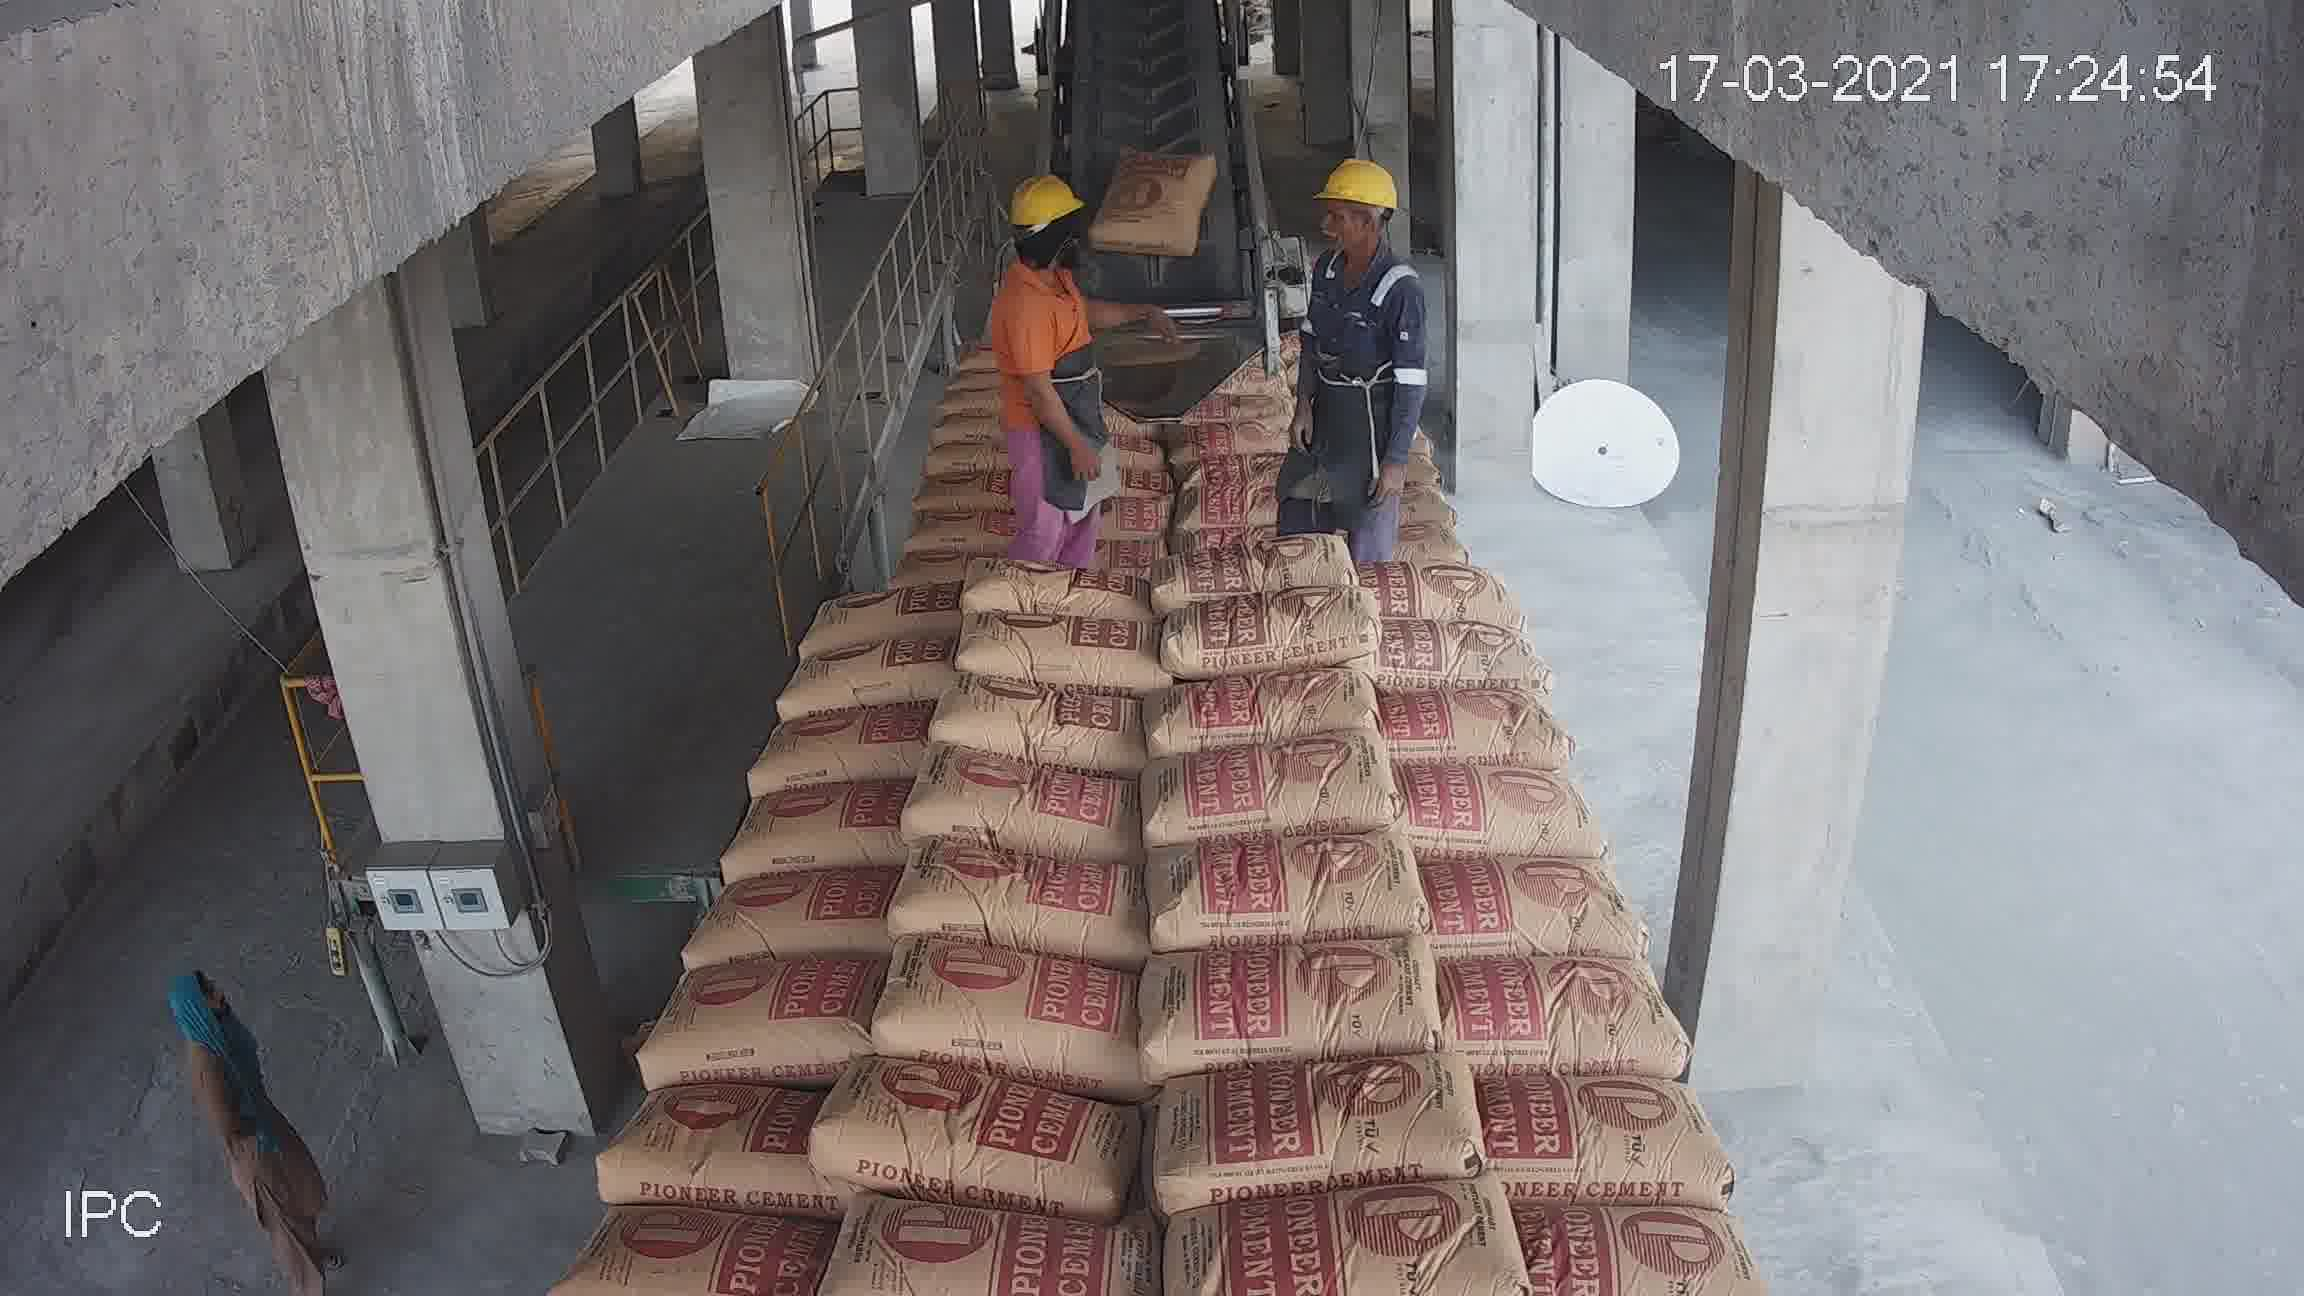bag: (1114, 237, 1212, 324), (1100, 9, 1195, 73)
bag_h: (807, 1060, 1173, 1218), (1150, 1052, 1492, 1218), (1155, 1166, 1521, 1296), (1147, 926, 1480, 1067), (780, 1195, 1193, 1296), (1116, 839, 1427, 970), (881, 943, 1161, 1089), (869, 855, 1149, 972), (641, 956, 896, 1082), (565, 1192, 826, 1296), (1481, 954, 1688, 1086), (593, 1097, 847, 1203), (1514, 1063, 1711, 1199), (881, 744, 1135, 847), (1108, 739, 1389, 828), (1141, 652, 1378, 756), (1506, 1199, 1761, 1296), (1440, 858, 1657, 959), (1152, 581, 1394, 669), (685, 870, 892, 972), (918, 674, 1158, 756), (1310, 676, 1581, 748), (1138, 510, 1362, 597), (1400, 764, 1598, 858), (715, 783, 916, 872), (972, 608, 1174, 695), (1347, 617, 1560, 695), (739, 718, 938, 798), (1146, 468, 1343, 546), (962, 549, 1147, 627), (772, 571, 961, 639), (1154, 446, 1343, 511), (777, 647, 945, 718), (991, 445, 1161, 514), (1358, 498, 1500, 581), (983, 503, 1146, 571), (805, 527, 972, 589), (1155, 396, 1324, 456), (1362, 563, 1514, 628), (842, 440, 984, 498), (987, 423, 1146, 472), (1342, 427, 1470, 484), (1374, 470, 1503, 525), (815, 494, 983, 536)
belt: (1057, 17, 1268, 255)
